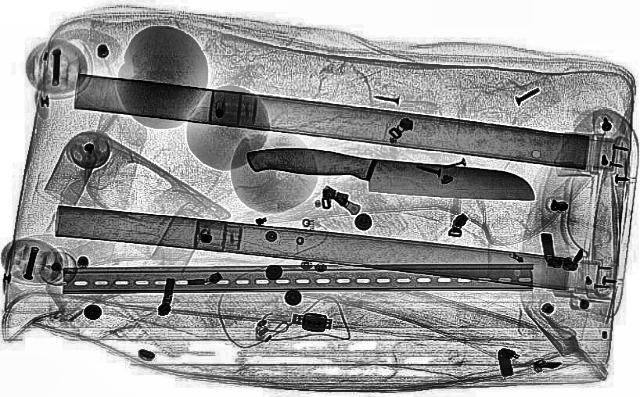Knife: (240, 143, 542, 205)
